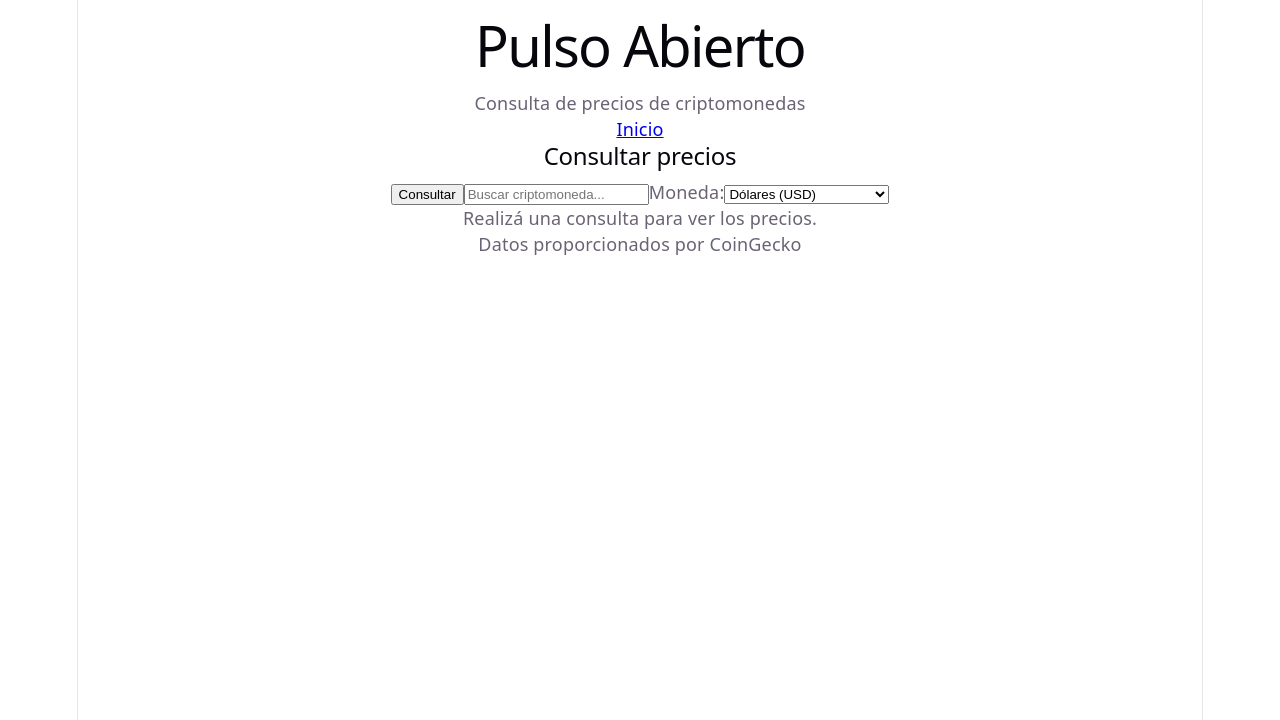
Test: Consulta de criptomonedas › muestra los resultados cuando la consulta es exitosa
Type "bit" into the field with placeholder "Buscar criptomoneda...".
click(556, 194); type("bit")  # box [464,184,649,205]
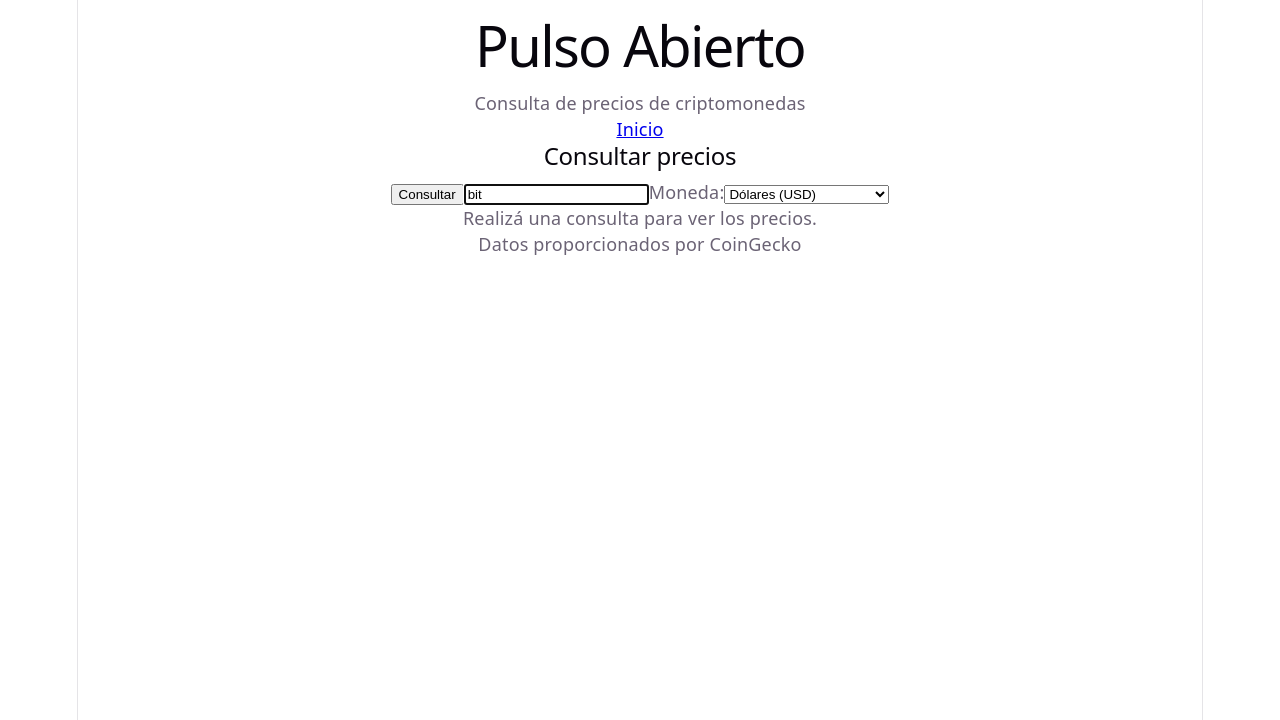
Click the button "Consultar".
click(427, 194)  # box [391,184,464,205]
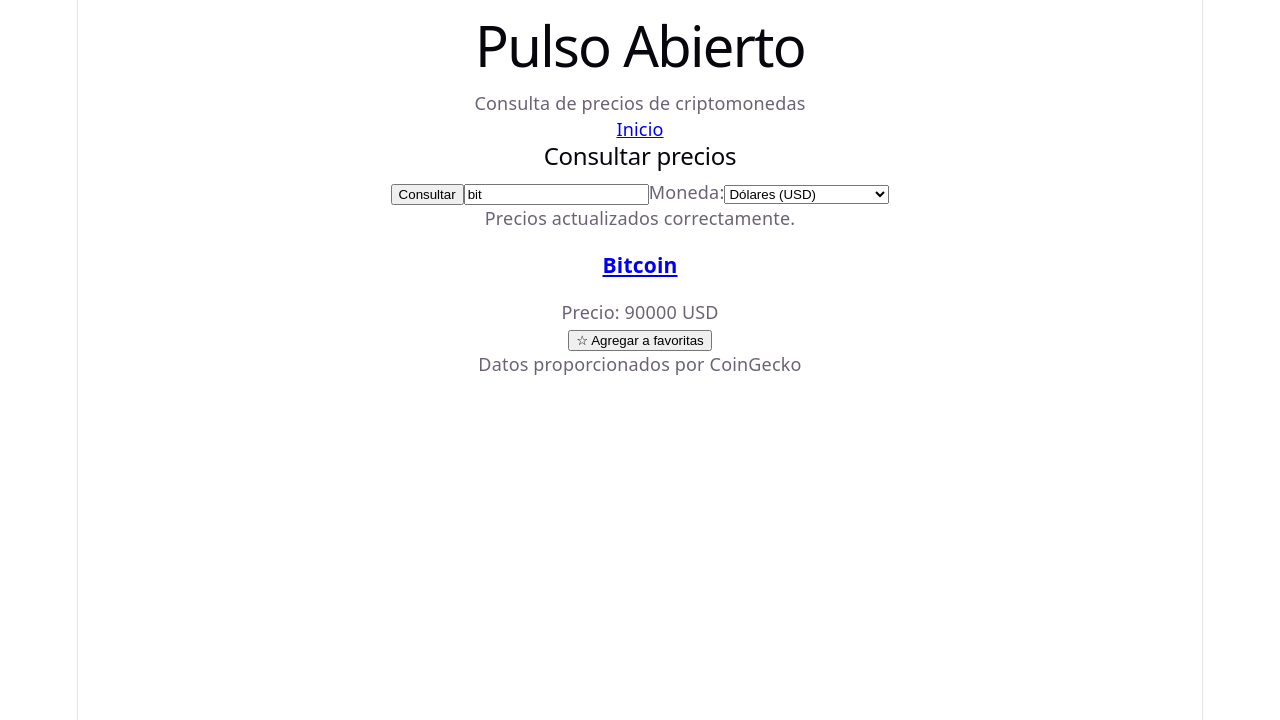
Expected: the text "Precios actualizados correctamente." is shown, [485,206,795,230]
Expected: the link "Bitcoin" is shown, [602,250,678,279]
